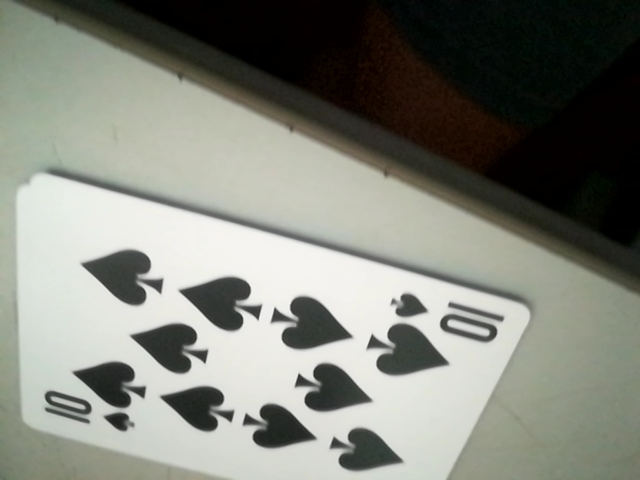ht 10: (384, 287, 523, 340)
